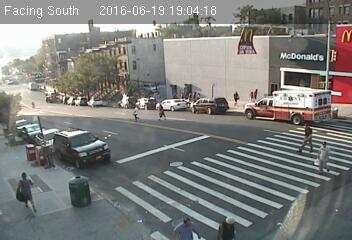neg: (267, 49, 290, 79), (304, 53, 324, 80), (197, 60, 216, 85), (309, 98, 327, 123), (151, 79, 169, 103), (97, 83, 111, 101), (238, 55, 252, 73)
pos: (8, 169, 39, 211), (311, 139, 337, 175), (293, 122, 318, 154), (152, 100, 168, 122), (230, 87, 245, 107), (128, 107, 140, 123)
